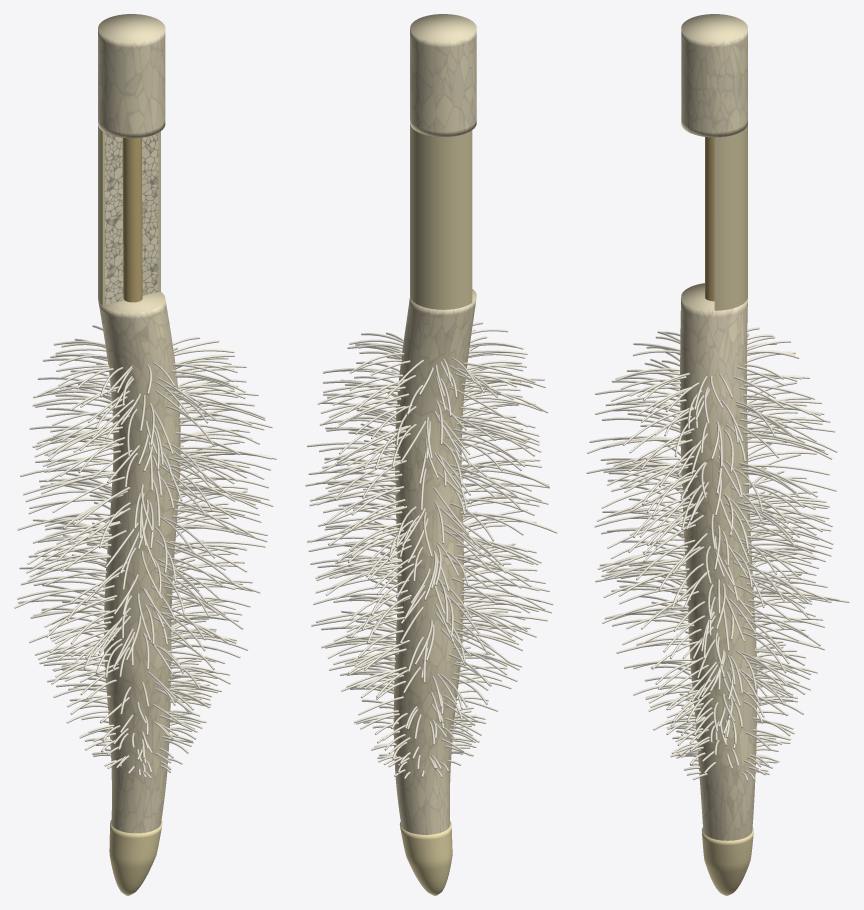
The picture shows the model from 3 angles, left to right: view 1: azimuth 30°, elevation 25°; view 2: azimuth 150°, elevation 25°; view 3: azimuth 270°, elevation 25°; orthographic projection.
Visible parts, largest first — view 1: Root_Hairs, Root_Body, Root_Body_Upper, Root_Section_Cortex, Root_Xylem, Root_Tip, Root_Section_Epidermis; view 2: Root_Hairs, Root_Body, Root_Section_Epidermis, Root_Body_Upper, Root_Tip; view 3: Root_Hairs, Root_Body, Root_Body_Upper, Root_Section_Epidermis, Root_Tip, Root_Xylem.
Boxes of the visible parts, <box> form: Root_Hairs: <box>14,325,276,779</box>; Root_Body: <box>98,291,180,833</box>; Root_Body_Upper: <box>98,14,165,138</box>; Root_Section_Cortex: <box>105,133,158,304</box>; Root_Xylem: <box>122,137,142,302</box>; Root_Tip: <box>109,820,162,895</box>; Root_Section_Epidermis: <box>98,125,160,305</box>; Root_Hairs: <box>305,322,557,779</box>; Root_Body: <box>393,289,476,834</box>; Root_Section_Epidermis: <box>410,123,472,309</box>; Root_Body_Upper: <box>410,14,476,136</box>; Root_Tip: <box>399,821,452,895</box>; Root_Hairs: <box>586,327,849,781</box>; Root_Body: <box>680,283,757,840</box>; Root_Body_Upper: <box>681,14,747,137</box>; Root_Section_Epidermis: <box>714,125,747,310</box>; Root_Tip: <box>701,827,753,895</box>; Root_Xylem: <box>705,137,714,301</box>.
Size of the model in its own units: 0.5405 by 2 by 0.5506.
6 materials, 2 textured.
